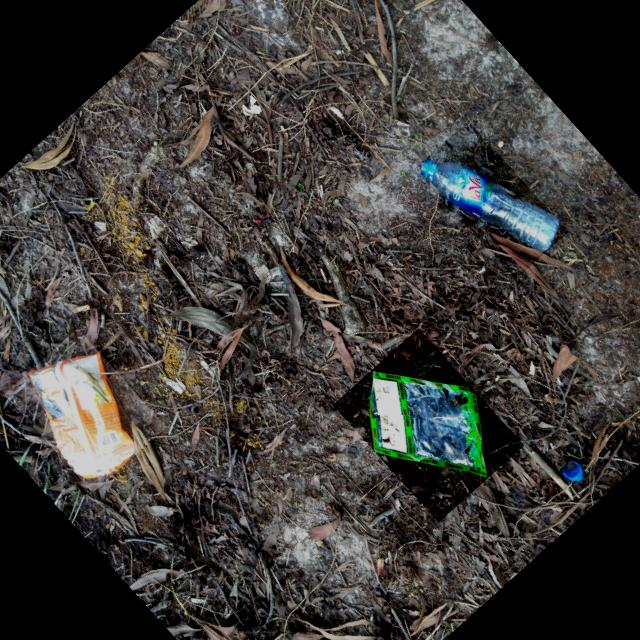Bottle cap: (563, 461, 584, 481)
Clear plastic bottle: (422, 158, 561, 251)
Other plastic: (29, 350, 136, 478), (371, 370, 488, 477)
